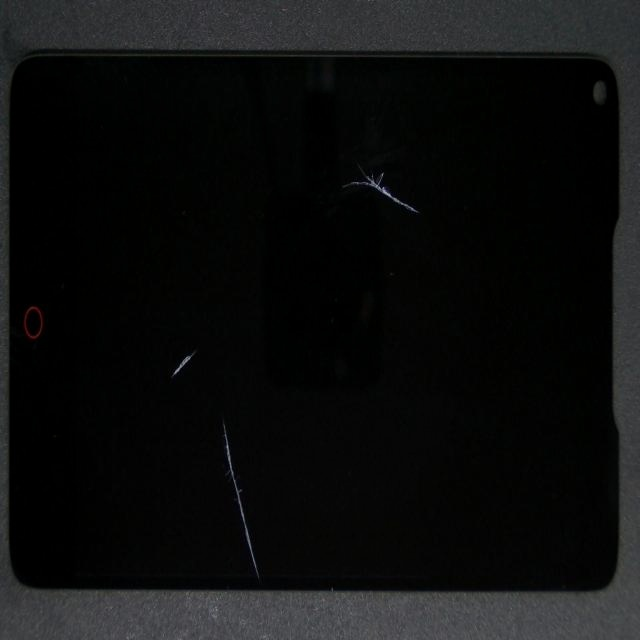scratch: (110, 143, 272, 505), (161, 390, 386, 640), (234, 87, 575, 245)
